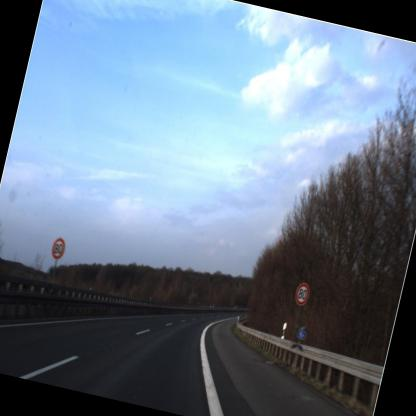prohibitory: (290, 278, 314, 310), (49, 235, 67, 262)
